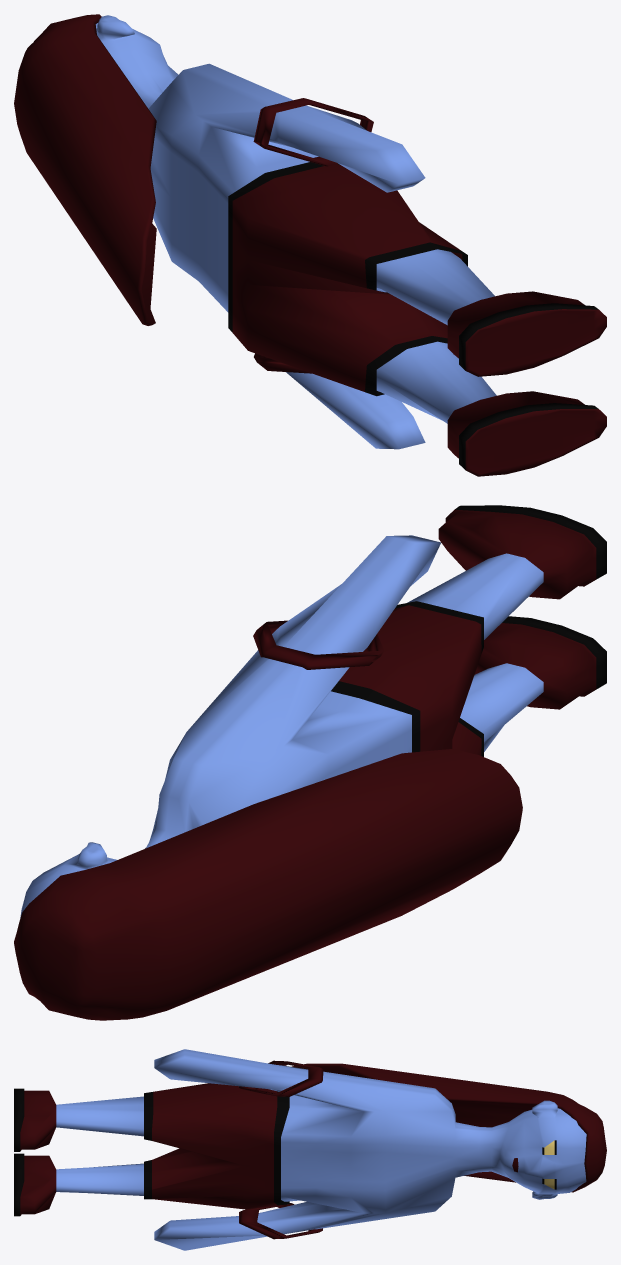
File: Long.fbx
The picture shows the model from 3 angles, top to bottom: view 1: azimuth 30°, elevation 25°; view 2: azimuth 150°, elevation 25°; view 3: azimuth 270°, elevation 25°; orthographic projection. The views are drawn at different scales.
Visible parts, largest first — view 1: Cube.001; view 2: Cube.001; view 3: Cube.001.
Part boxes in pixels (box(x1,y1,x2,y2)): Cube.001: box(14, 14, 606, 476); Cube.001: box(14, 505, 606, 1020); Cube.001: box(14, 1049, 606, 1250).
Bounding box in the file's own units: 0.7007 × 2.07 × 0.7457.
